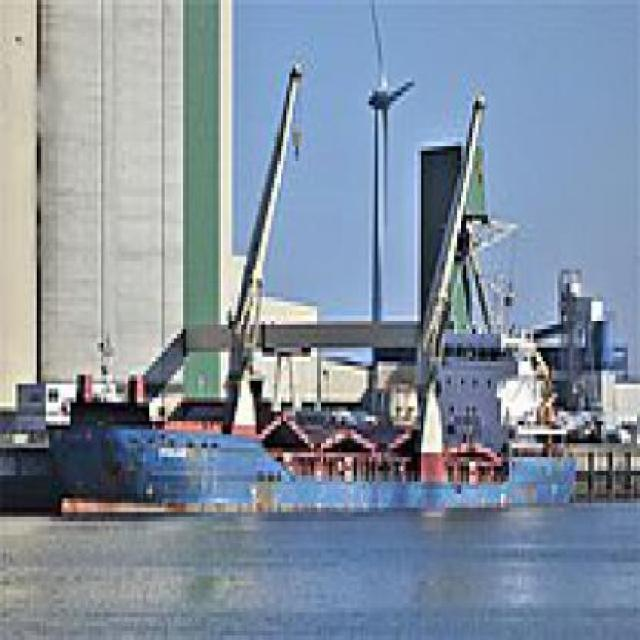container: (50, 367, 590, 527)
